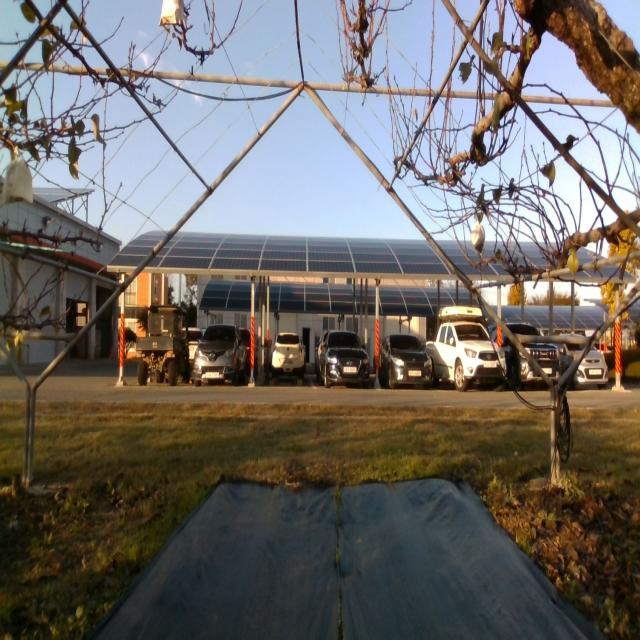pearbags: (0, 158, 33, 204), (158, 0, 183, 25), (471, 221, 485, 251)
